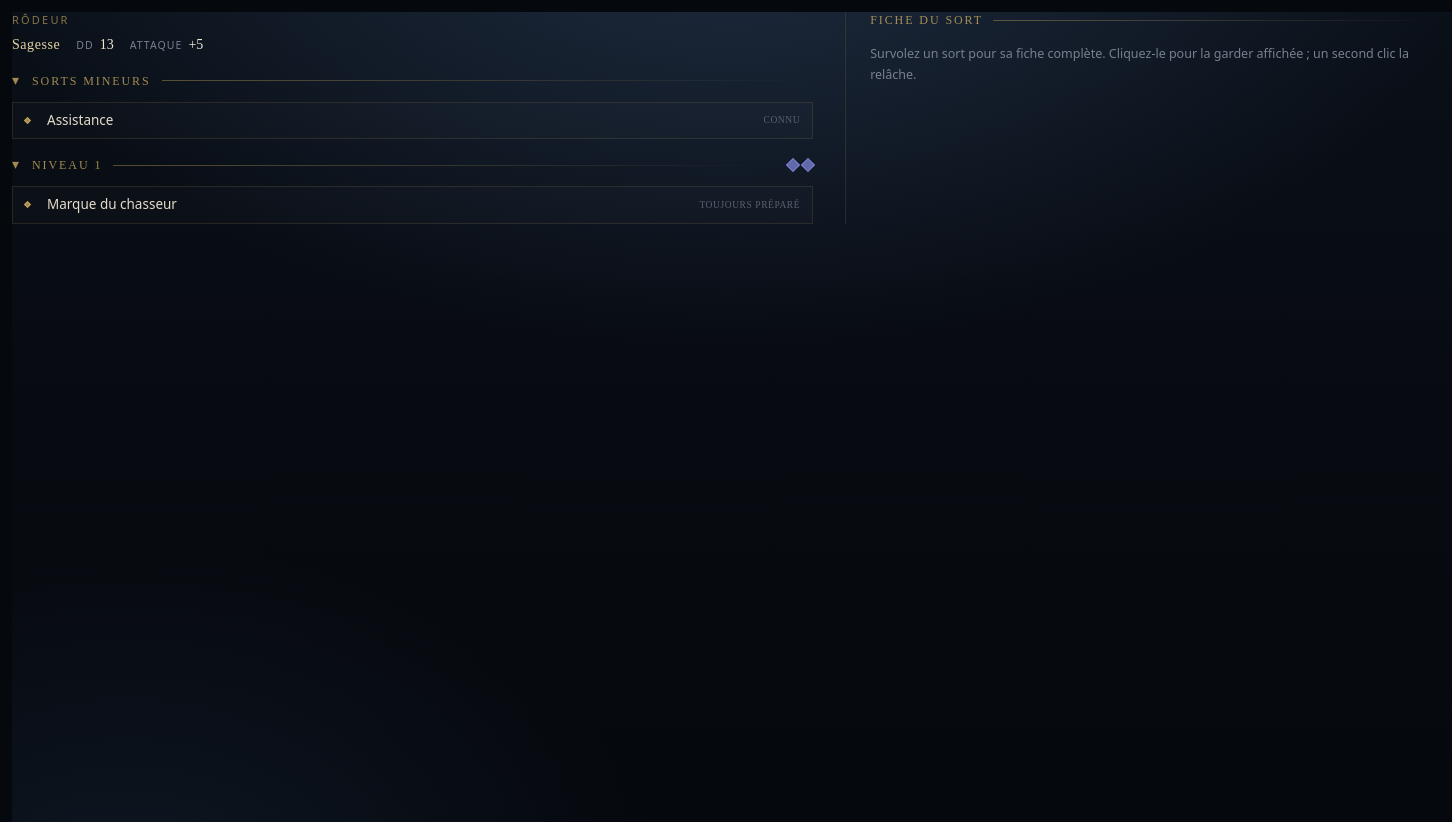
Test: GrimoireTabContainer › montre la fiche complète du sort survolé
Hover over the button "Marque du chasseur Toujours préparé" at (112, 204), box [12,186,813,224]
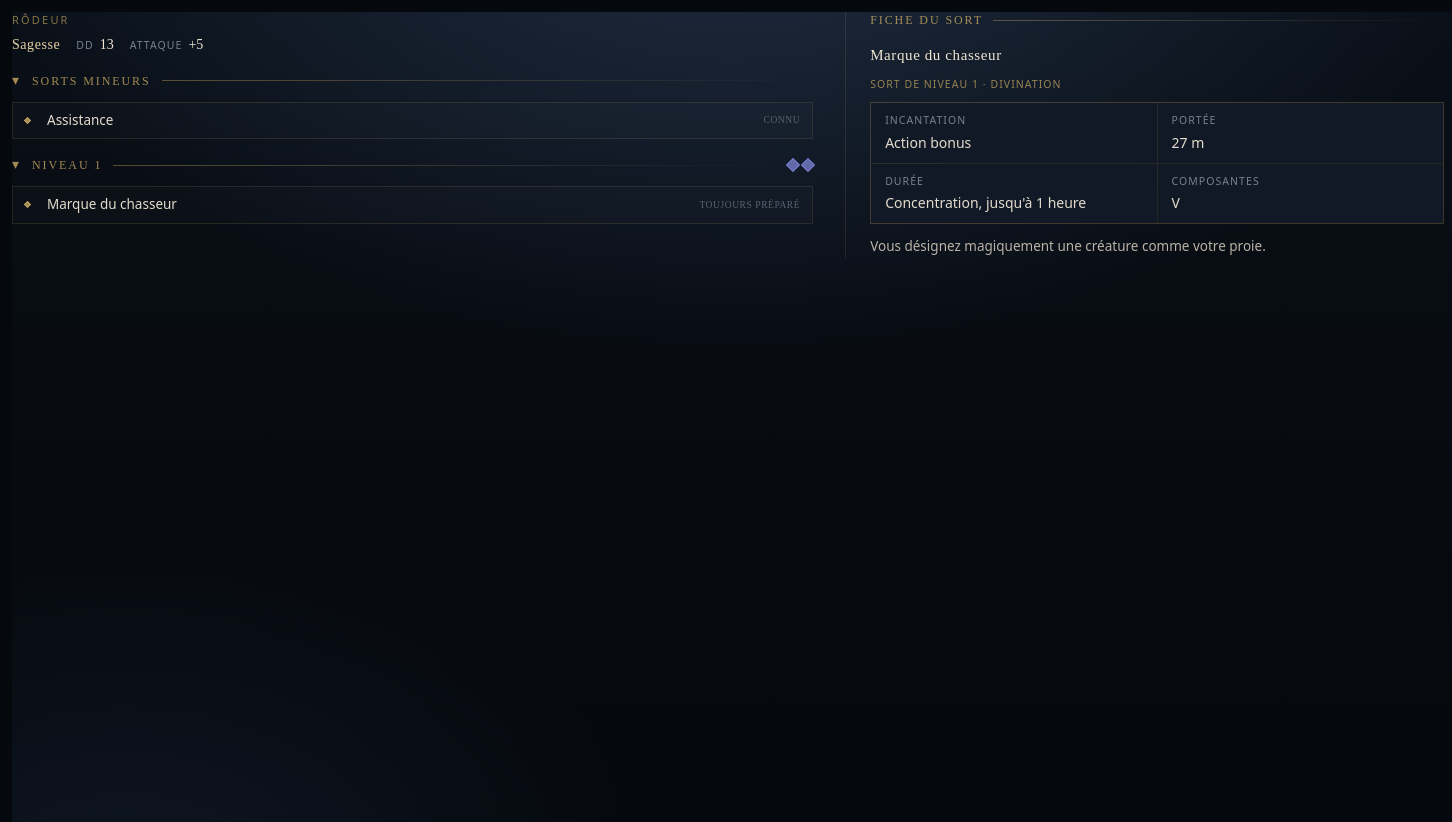
Now the text "Sort de niveau 1 · Divination" is shown, box [870,76,1062,90]
Now the text "Concentration, jusqu'à 1 heure" is shown, box [885,193,1086,212]
Now the text "V" is shown, box [1172,193,1180,212]
